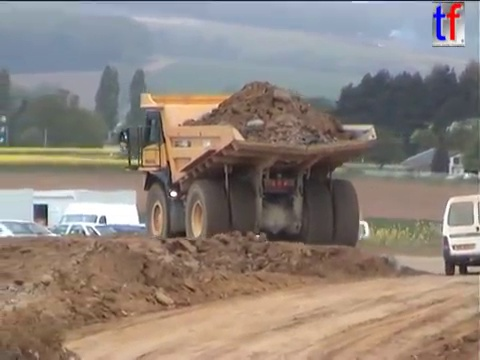truck: (115, 89, 380, 256)
